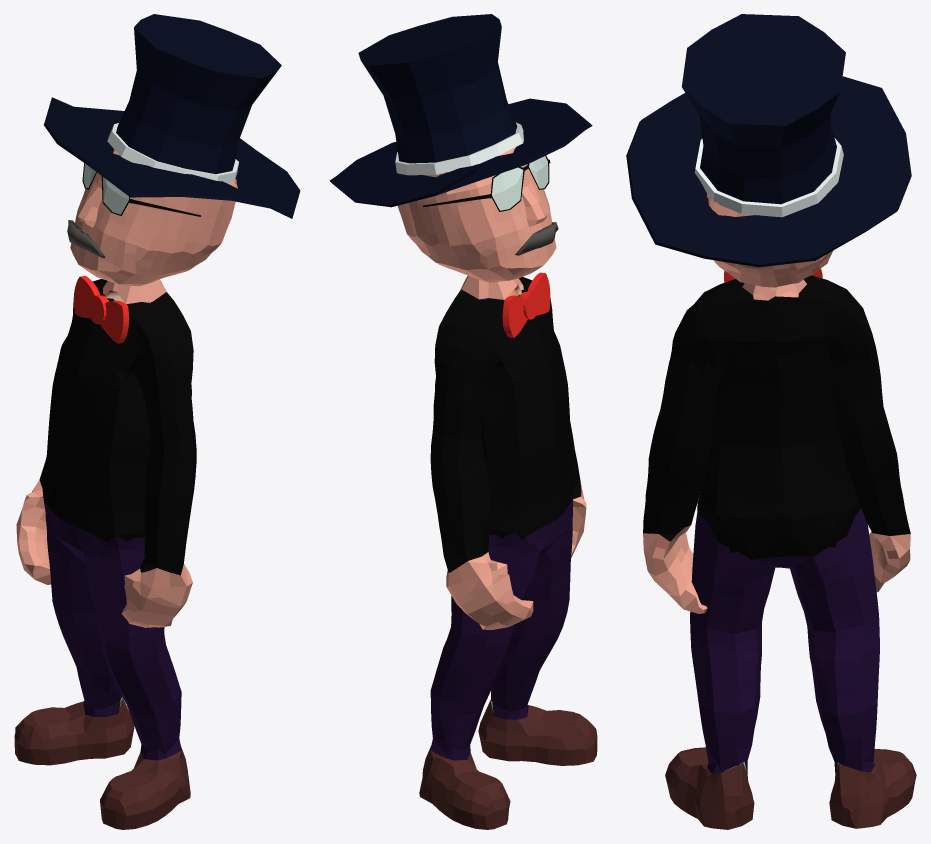
Rendered from NPC_Gentleman.obj.
3 renders of one model, left to right at view 1: azimuth 30°, elevation 25°; view 2: azimuth 150°, elevation 25°; view 3: azimuth 270°, elevation 25°, orthographic. The views are drawn at different scales.
Visible parts, largest first — view 1: Humanoide_Base_Humanoide_Base_Base_NPC__characterMedium_49753fa_, Set_of_Hats.002_Set_of_Hats.002_GentlemanMaterial_Set_of_Hats.00, Circle.001_Circle.001_GentlemanMaterial_Circle.001_Circle.001_Ge, lazo_uploads_files_81693_BowtieCookieCutter.001_lazo_up_4c9306c_, gafas_glasses1.003_Plane.003_gafas_glasses1.003_Plane.0_aa34c73_, nariz_nariz_nariz_nariz_1.000_nariz_nariz_nariz_nariz_1_3aa667d_, Cube.002_Cube.001_Cube.002_Cube.001_GentlemanMaterial_Cube.002_C; view 2: Humanoide_Base_Humanoide_Base_Base_NPC__characterMedium_49753fa_, Set_of_Hats.002_Set_of_Hats.002_GentlemanMaterial_Set_of_Hats.00, Circle.001_Circle.001_GentlemanMaterial_Circle.001_Circle.001_Ge, gafas_glasses1.003_Plane.003_gafas_glasses1.003_Plane.0_aa34c73_, lazo_uploads_files_81693_BowtieCookieCutter.001_lazo_up_4c9306c_, nariz_nariz_nariz_nariz_1.000_nariz_nariz_nariz_nariz_1_3aa667d_, Cube.002_Cube.001_Cube.002_Cube.001_GentlemanMaterial_Cube.002_C; view 3: Humanoide_Base_Humanoide_Base_Base_NPC__characterMedium_49753fa_, Set_of_Hats.002_Set_of_Hats.002_GentlemanMaterial_Set_of_Hats.00, Circle.001_Circle.001_GentlemanMaterial_Circle.001_Circle.001_Ge.
Boxes of the visible parts, bbox=[...] form: Humanoide_Base_Humanoide_Base_Base_NPC__characterMedium_49753fa_: bbox=[14, 149, 237, 829]; Set_of_Hats.002_Set_of_Hats.002_GentlemanMaterial_Set_of_Hats.00: bbox=[107, 14, 281, 183]; Circle.001_Circle.001_GentlemanMaterial_Circle.001_Circle.001_Ge: bbox=[44, 97, 300, 218]; lazo_uploads_files_81693_BowtieCookieCutter.001_lazo_up_4c9306c_: bbox=[73, 276, 129, 343]; gafas_glasses1.003_Plane.003_gafas_glasses1.003_Plane.0_aa34c73_: bbox=[82, 163, 200, 216]; nariz_nariz_nariz_nariz_1.000_nariz_nariz_nariz_nariz_1_3aa667d_: bbox=[77, 181, 102, 227]; Cube.002_Cube.001_Cube.002_Cube.001_GentlemanMaterial_Cube.002_C: bbox=[67, 220, 105, 258]; Humanoide_Base_Humanoide_Base_Base_NPC__characterMedium_49753fa_: bbox=[398, 147, 597, 829]; Set_of_Hats.002_Set_of_Hats.002_GentlemanMaterial_Set_of_Hats.00: bbox=[358, 14, 523, 175]; Circle.001_Circle.001_GentlemanMaterial_Circle.001_Circle.001_Ge: bbox=[329, 98, 592, 207]; gafas_glasses1.003_Plane.003_gafas_glasses1.003_Plane.0_aa34c73_: bbox=[423, 155, 550, 211]; lazo_uploads_files_81693_BowtieCookieCutter.001_lazo_up_4c9306c_: bbox=[502, 272, 550, 337]; nariz_nariz_nariz_nariz_1.000_nariz_nariz_nariz_nariz_1_3aa667d_: bbox=[521, 182, 546, 226]; Cube.002_Cube.001_Cube.002_Cube.001_GentlemanMaterial_Cube.002_C: bbox=[515, 222, 558, 255]; Humanoide_Base_Humanoide_Base_Base_NPC__characterMedium_49753fa_: bbox=[643, 193, 916, 829]; Set_of_Hats.002_Set_of_Hats.002_GentlemanMaterial_Set_of_Hats.00: bbox=[681, 14, 845, 217]; Circle.001_Circle.001_GentlemanMaterial_Circle.001_Circle.001_Ge: bbox=[626, 76, 911, 267].
Size of the model in its own units: 13.41 by 43.21 by 14.11.
